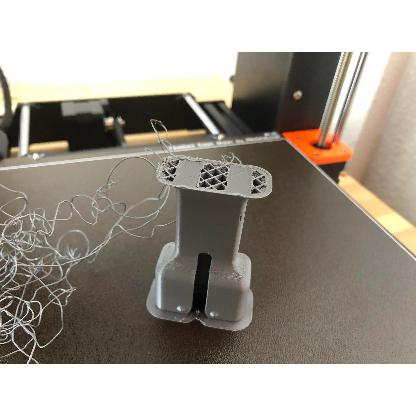fail: (0, 151, 167, 360)
